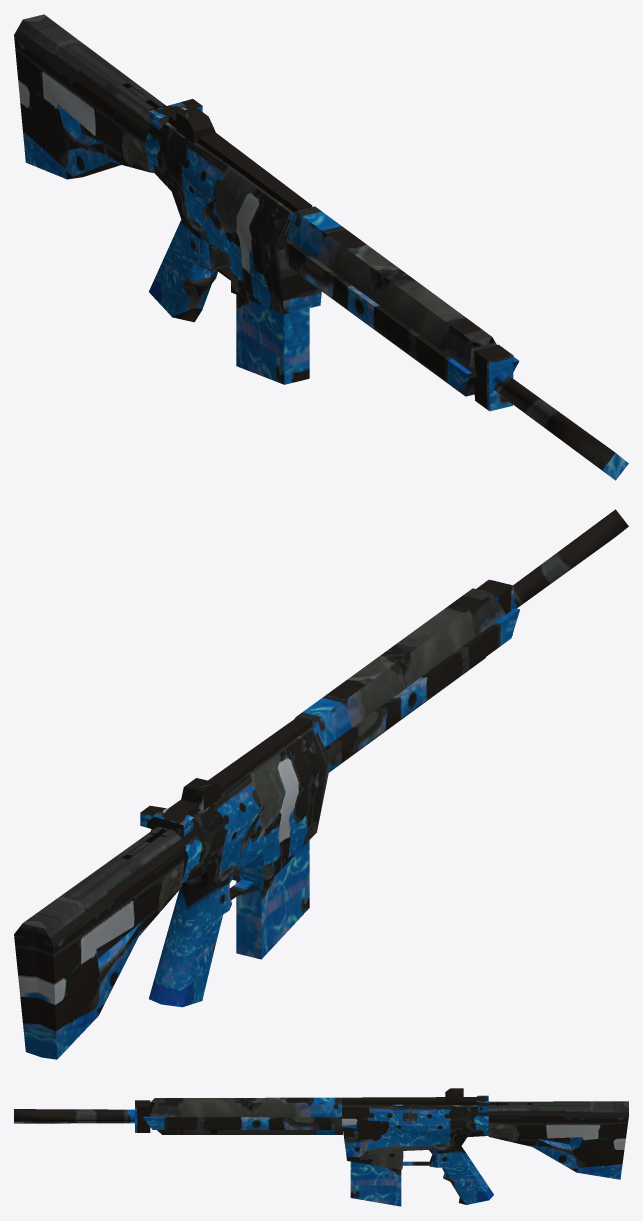
The model's file is Sniper_Rifle_SR_M110_lod1_WaterSplashing_Skin_Body_LOD_(000625).glb.
3 renders of one model, top to bottom at view 1: azimuth 30°, elevation 25°; view 2: azimuth 150°, elevation 25°; view 3: azimuth 270°, elevation 25°, orthographic. The views are drawn at different scales.
Parts seen in each view (by area): view 1: SR_M110_lod1; view 2: SR_M110_lod1; view 3: SR_M110_lod1.
Part boxes in pixels (box(x1,y1,x2,y2)): SR_M110_lod1: box(14, 14, 628, 480); SR_M110_lod1: box(14, 509, 628, 1059); SR_M110_lod1: box(14, 1088, 628, 1206).
Bounding box in the file's own units: 0.0632 × 0.2413 × 1.2.
Materials: 1 (1 with a texture image).
